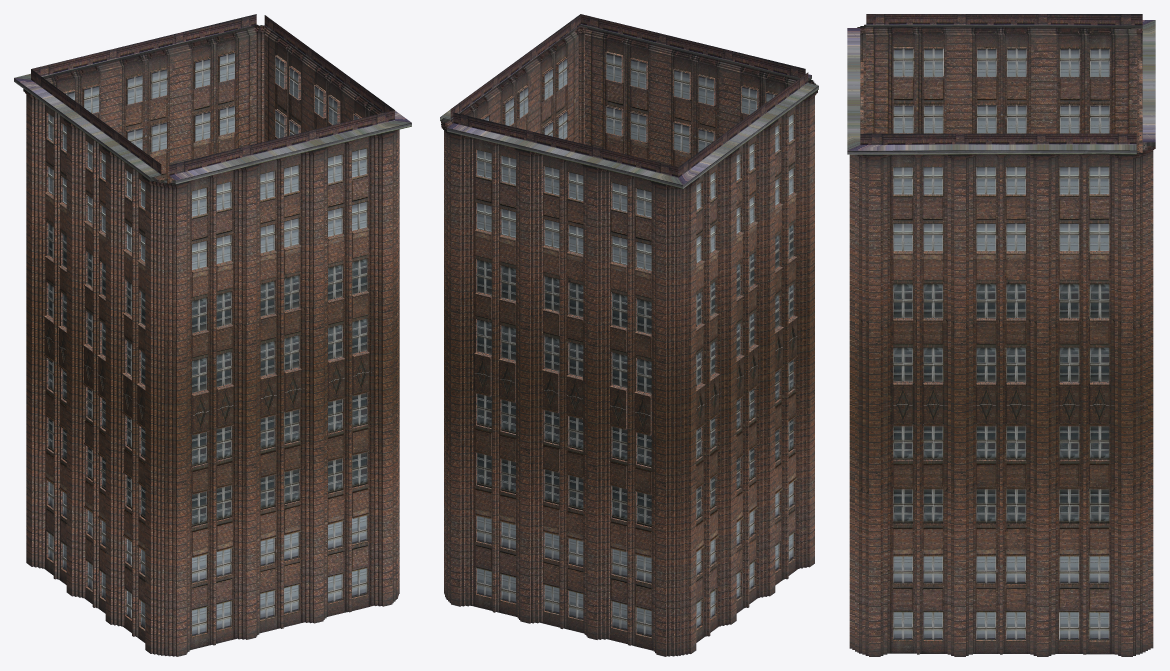
3 renders of one model, left to right at view 1: azimuth 30°, elevation 25°; view 2: azimuth 150°, elevation 25°; view 3: azimuth 270°, elevation 25°, orthographic. The views are drawn at different scales.
Visible parts, largest first — view 1: TexturesCom_BuildingsTallHouse0032_M.001; view 2: TexturesCom_BuildingsTallHouse0032_M.001; view 3: TexturesCom_BuildingsTallHouse0032_M.001.
Part boxes in pixels (x1,y1,x2,y2): TexturesCom_BuildingsTallHouse0032_M.001: (14, 14, 411, 656); TexturesCom_BuildingsTallHouse0032_M.001: (440, 14, 818, 656); TexturesCom_BuildingsTallHouse0032_M.001: (847, 14, 1155, 656).
Bounding box in the file's own units: 21.98 × 40.85 × 21.94.
2 materials, 2 textured.
